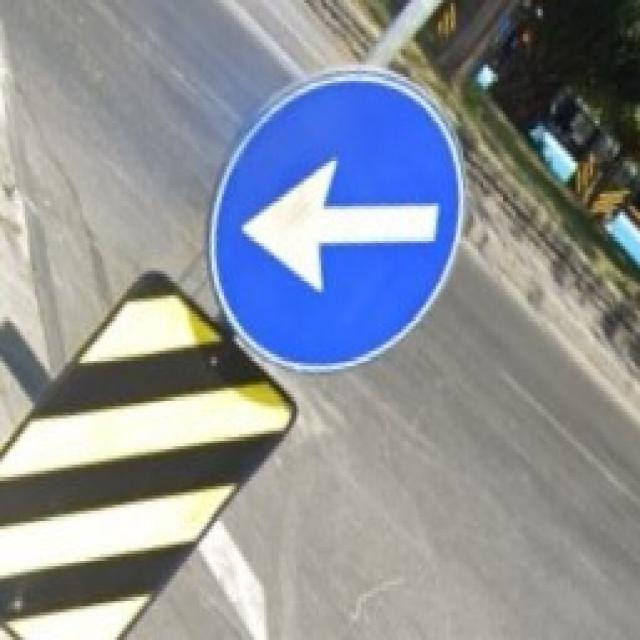Turn Left: (213, 80, 469, 366)
